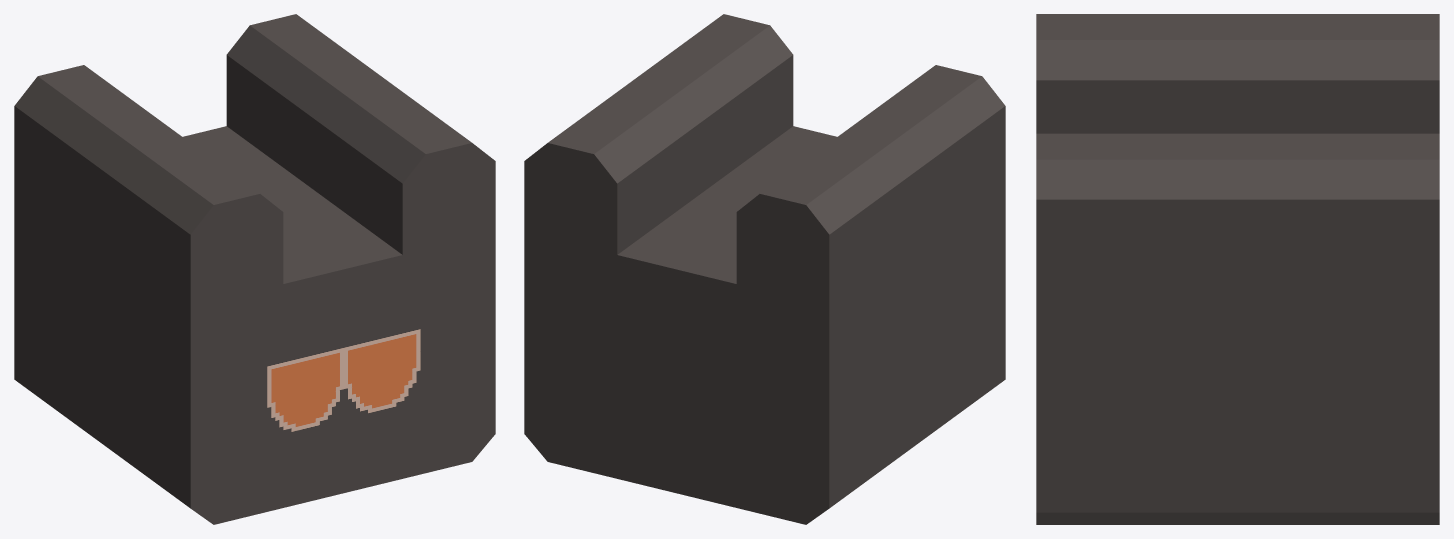
Rendered from enemy.obj.
3 views of the same model, side by side, from view 1: azimuth 30°, elevation 25°; view 2: azimuth 150°, elevation 25°; view 3: azimuth 270°, elevation 25° (orthographic). The views are drawn at different scales.
Parts seen in each view (by area): view 1: Cube, 平面; view 2: Cube; view 3: Cube.
Part boxes in pixels (<box>): Cube: <box>14,14,495,524</box>; 平面: <box>215,264,472,514</box>; Cube: <box>524,14,1005,524</box>; Cube: <box>1036,14,1439,524</box>.
Size of the model in its own units: 2 by 2 by 2.01.
2 materials, 2 textured.
